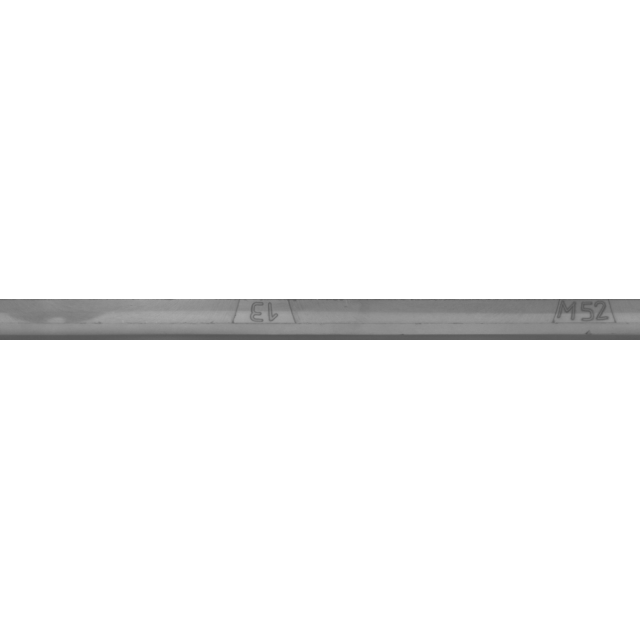mohao: (485, 270, 640, 370)
xuehao: (166, 270, 366, 370)
